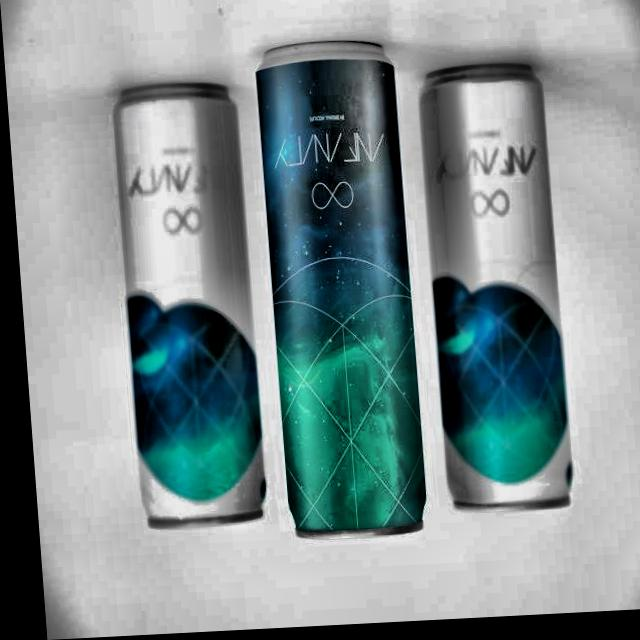can: (245, 32, 427, 556), (100, 74, 270, 539), (408, 64, 572, 528)
